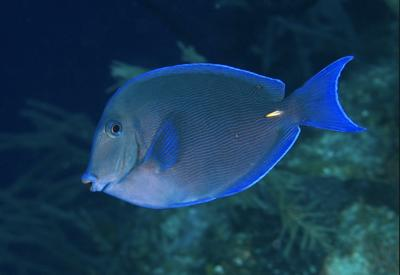Acanthuridae -Surgeonfishes-: (79, 52, 366, 210)
